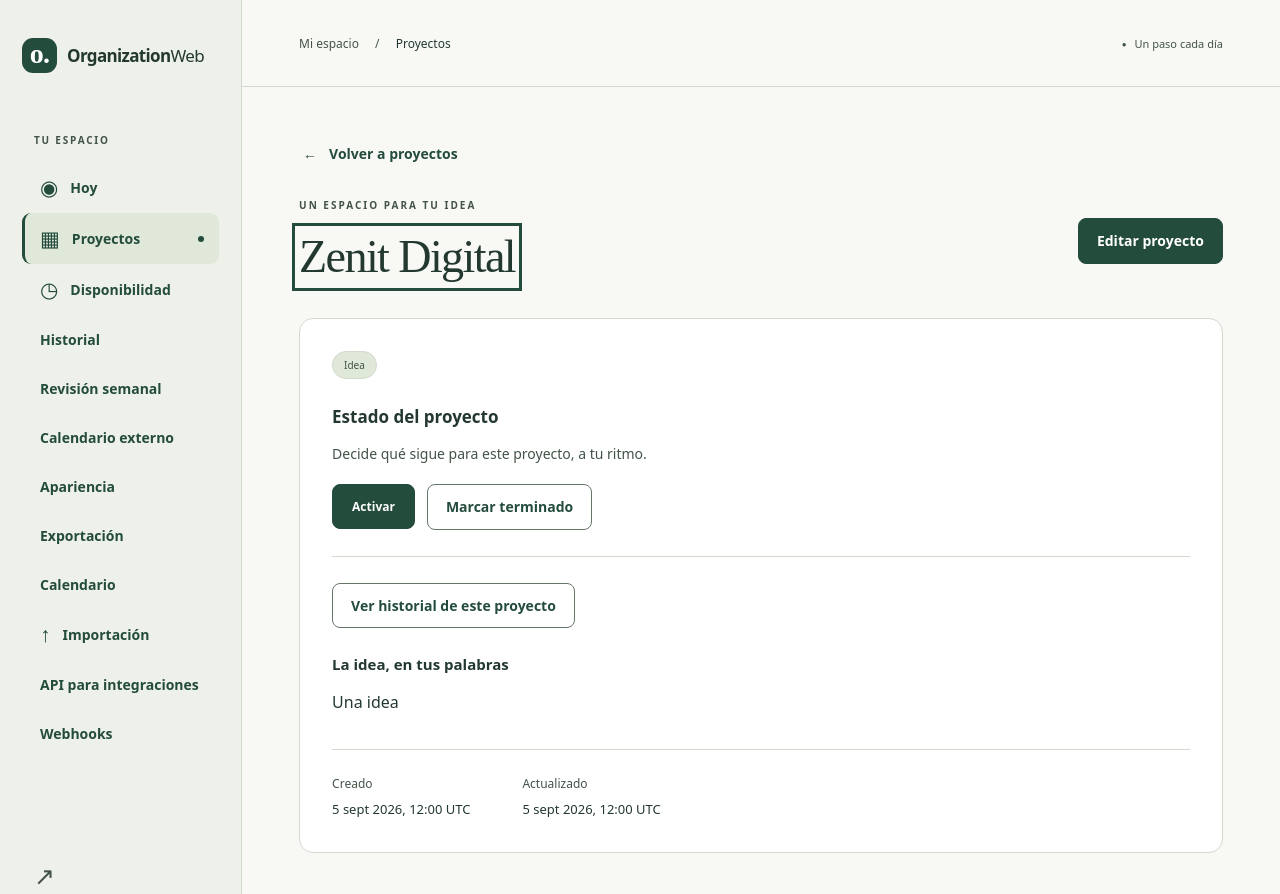
@s14 detalle y edición conservan estado idea
Expected: the text "Idea" is shown, [332,351,377,379]
Click the link "Editar proyecto".
click(1150, 241)  # box [1078,218,1223,264]
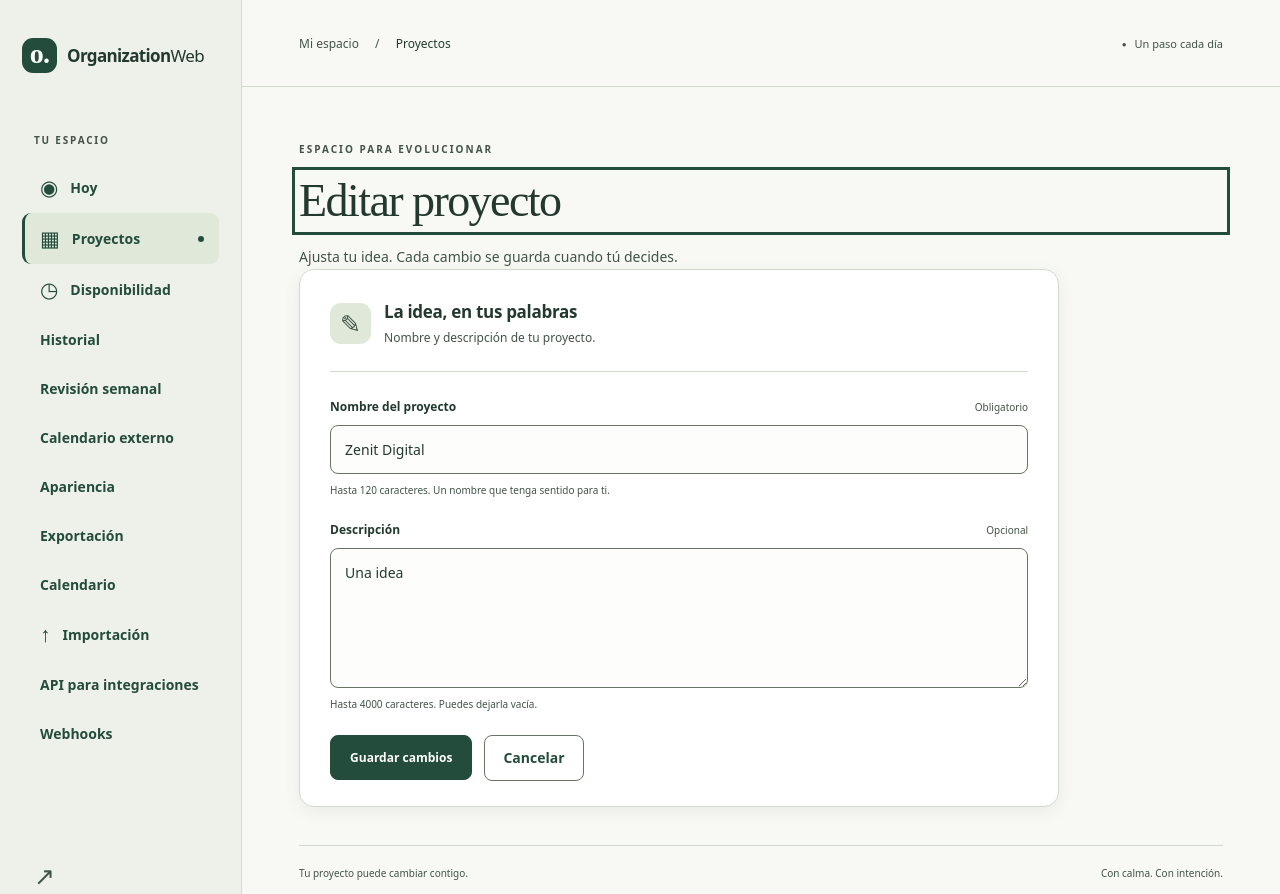
Replace the text in the field labelled "Nombre del proyecto Obligatorio" with "Editado" at (679, 450), box [330,425,1028,474]
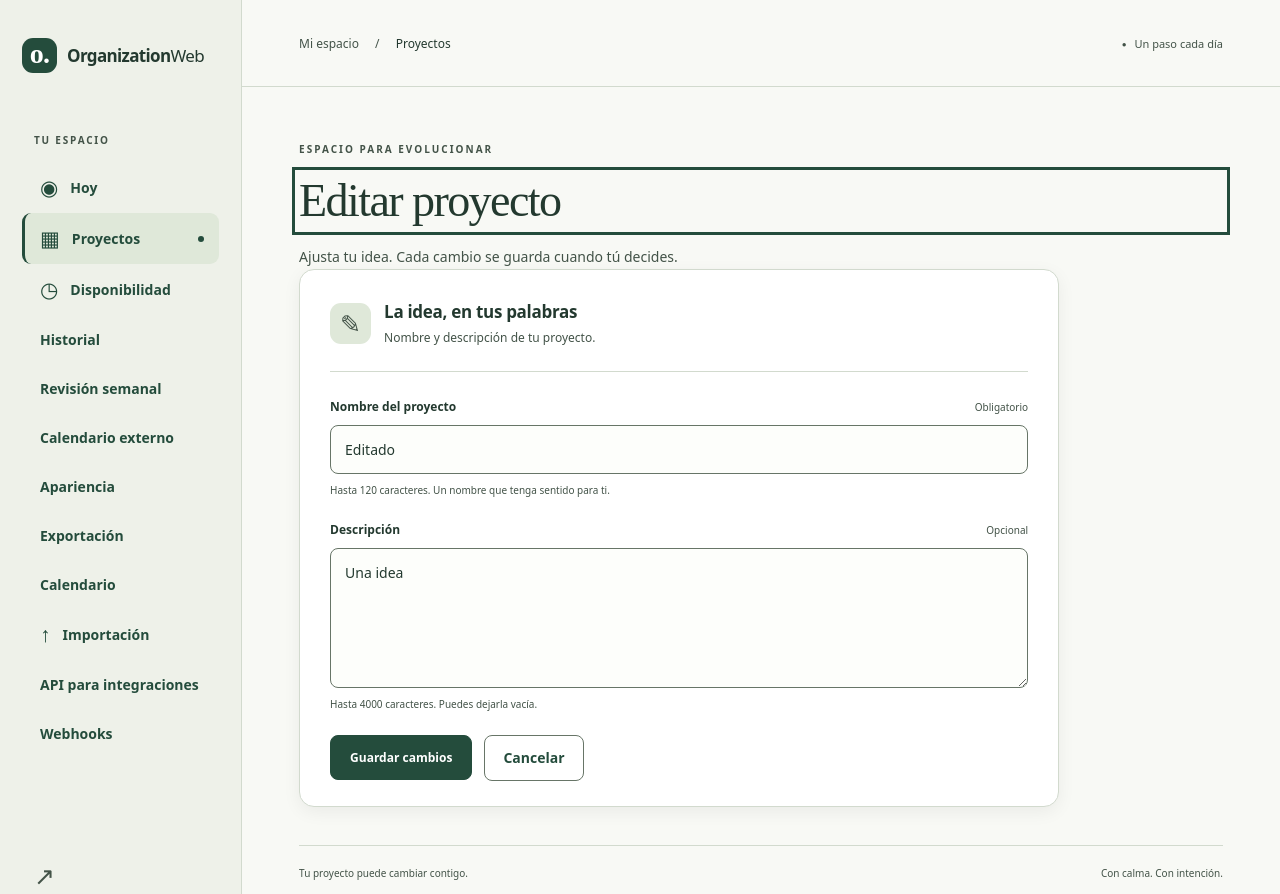
Click the button "Guardar cambios".
click(401, 758)  # box [330,736,472,780]
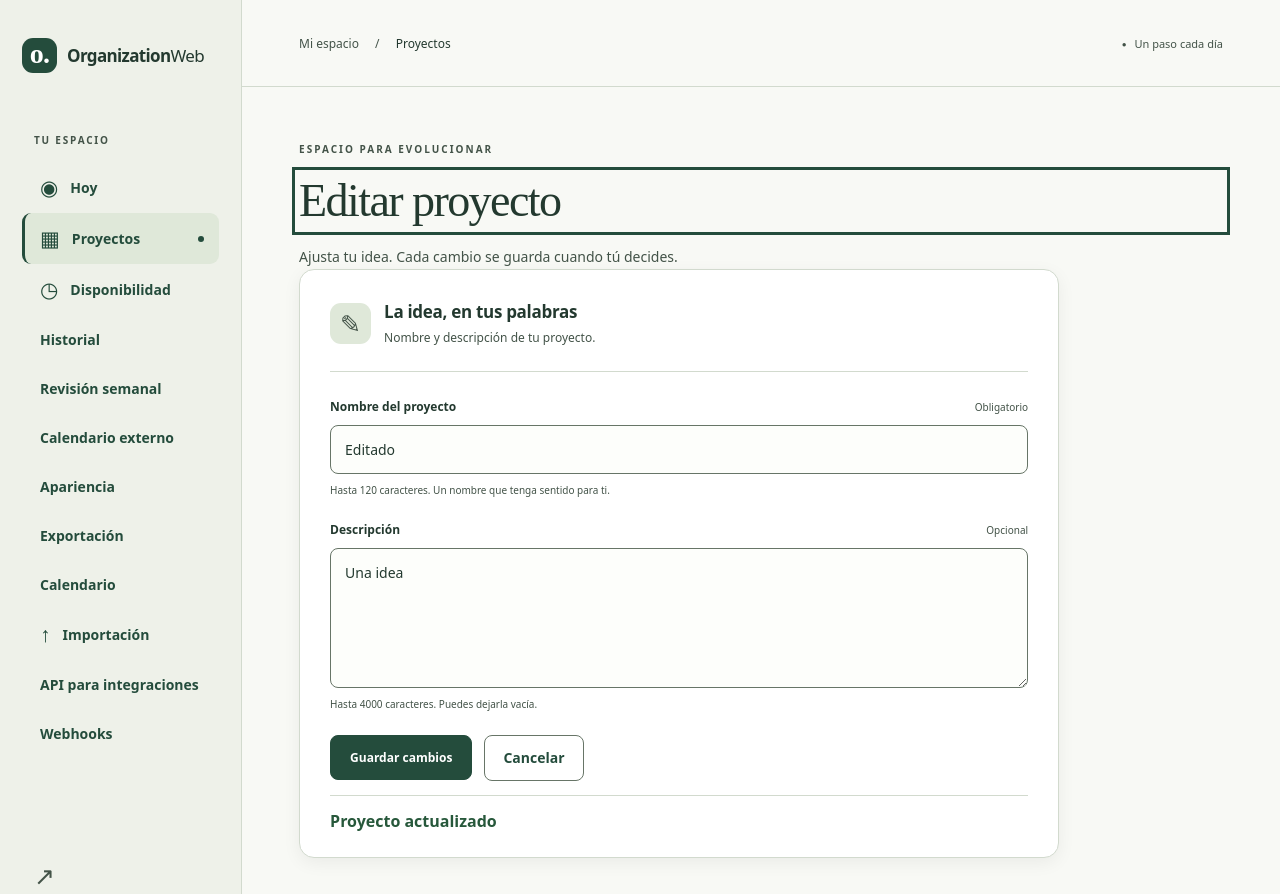
Expected: the message reads "Proyecto actualizado", [330,810,497,832]
